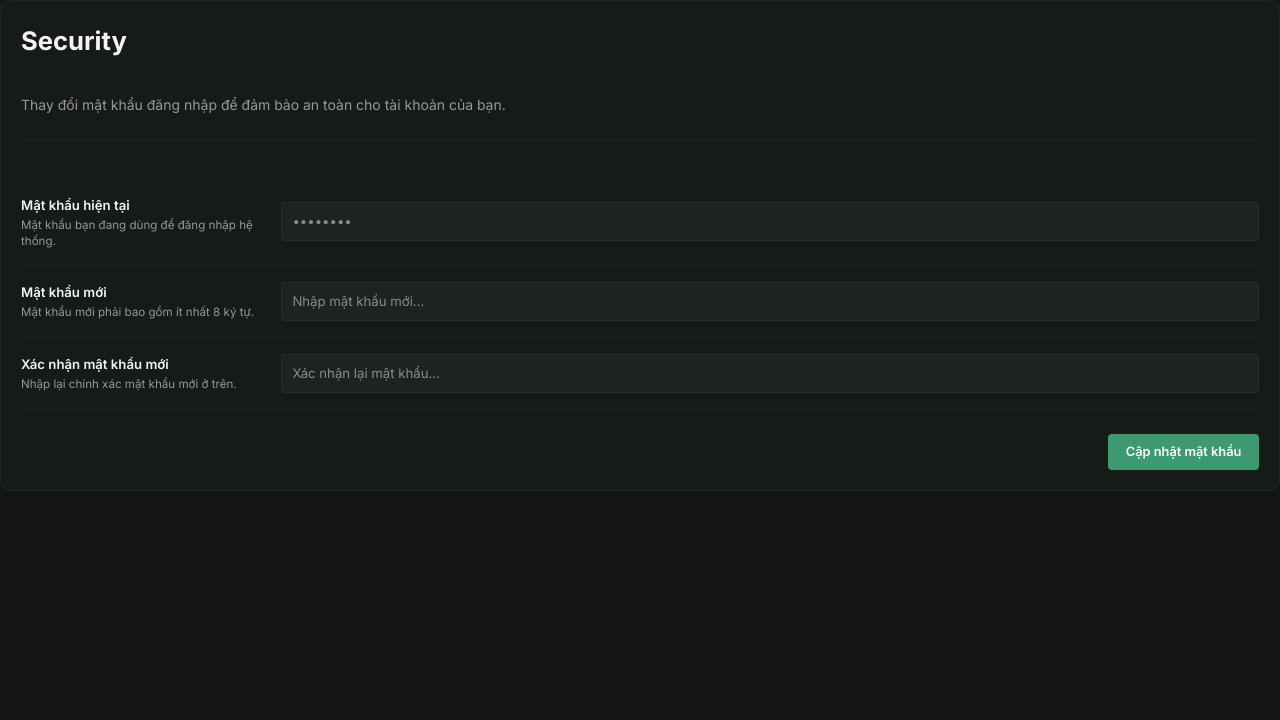
Test: ProfileSecurityTab — logic đổi mật khẩu (PR-008) › currentPassword trống → fieldErrors.currentPassword inline + focus, không gọi changePassword
Type "newpass123" into the password field with id "newPassword".
click(770, 301); type("newpass123")  # box x1=281 y1=282 x2=1259 y2=321
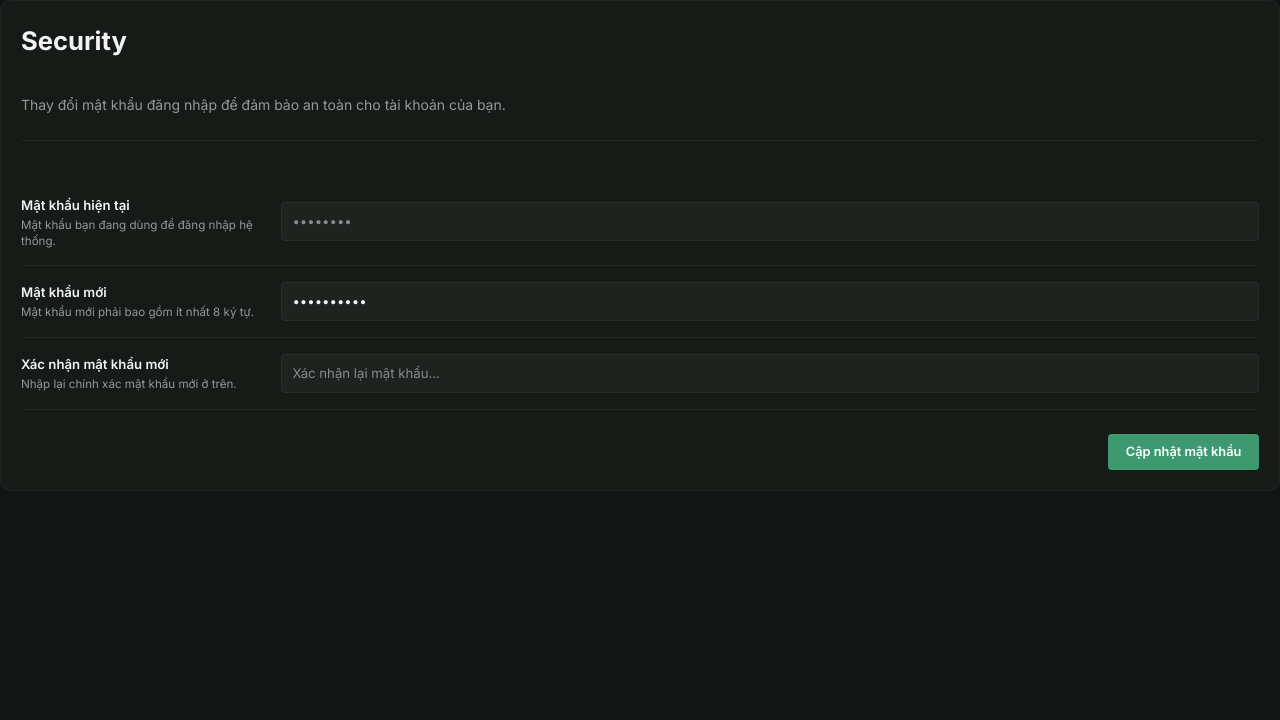
Type "newpass123" into the password field with id "confirmNewPassword".
click(770, 373); type("newpass123")  # box x1=281 y1=354 x2=1259 y2=393
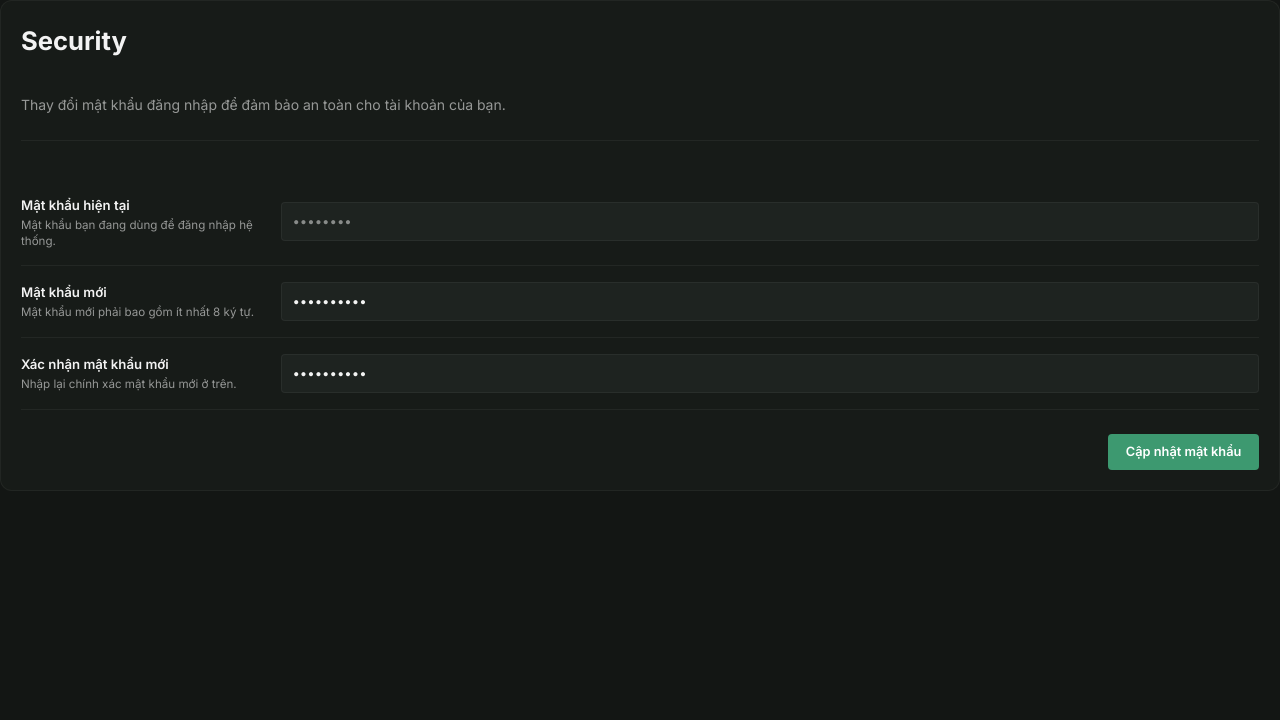
Submit the form, box x1=21 y1=195 x2=1259 y2=470
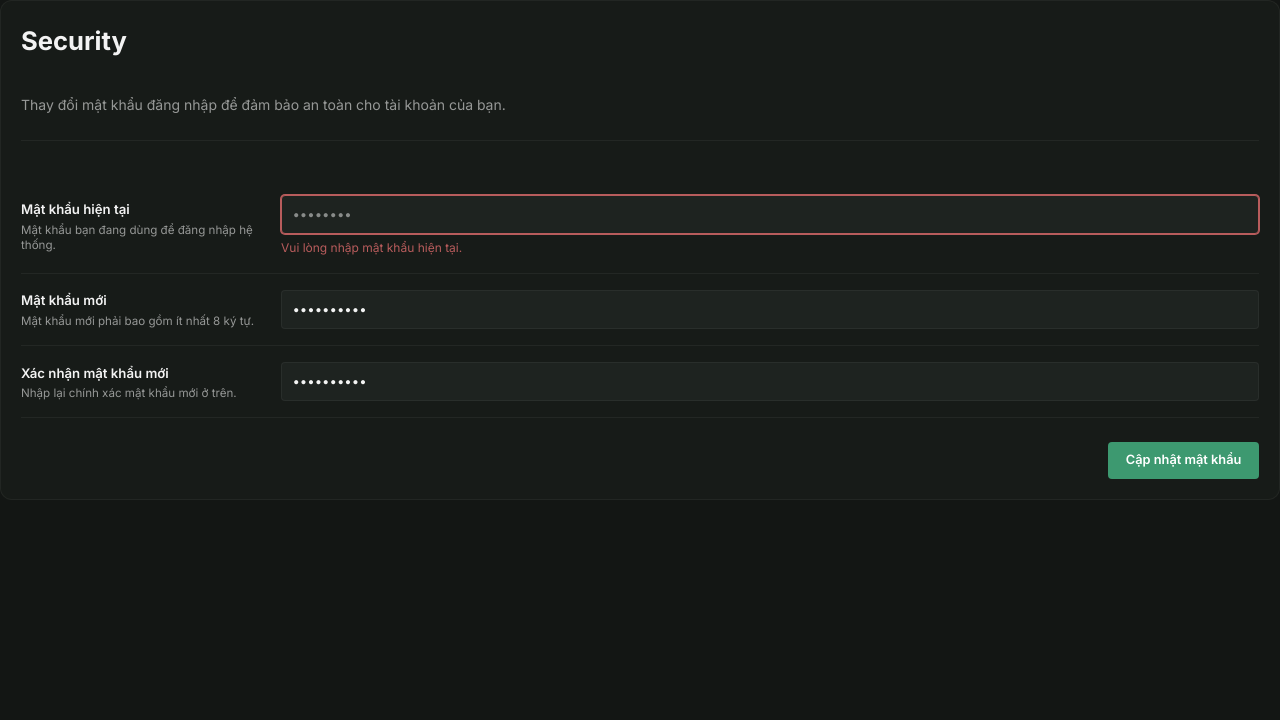
Expected: the message with class "field-error" reads "Vui lòng nhập mật khẩu hiện tại.", x1=281 y1=240 x2=462 y2=255
